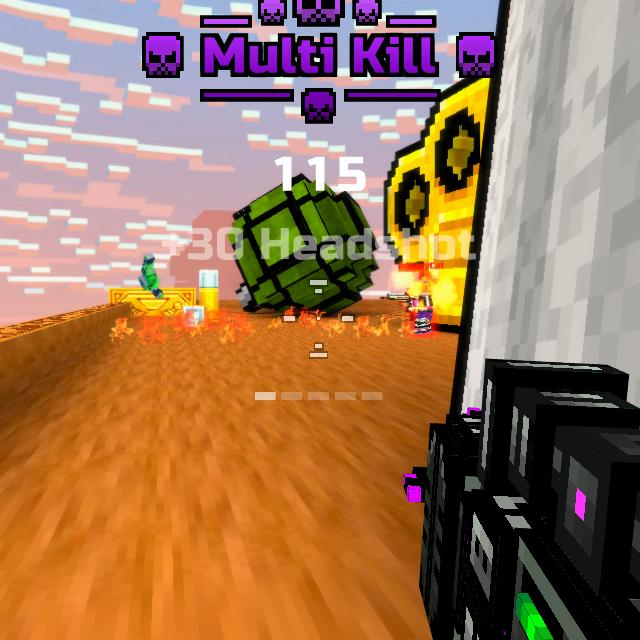Enemy: (409, 280, 433, 334)
